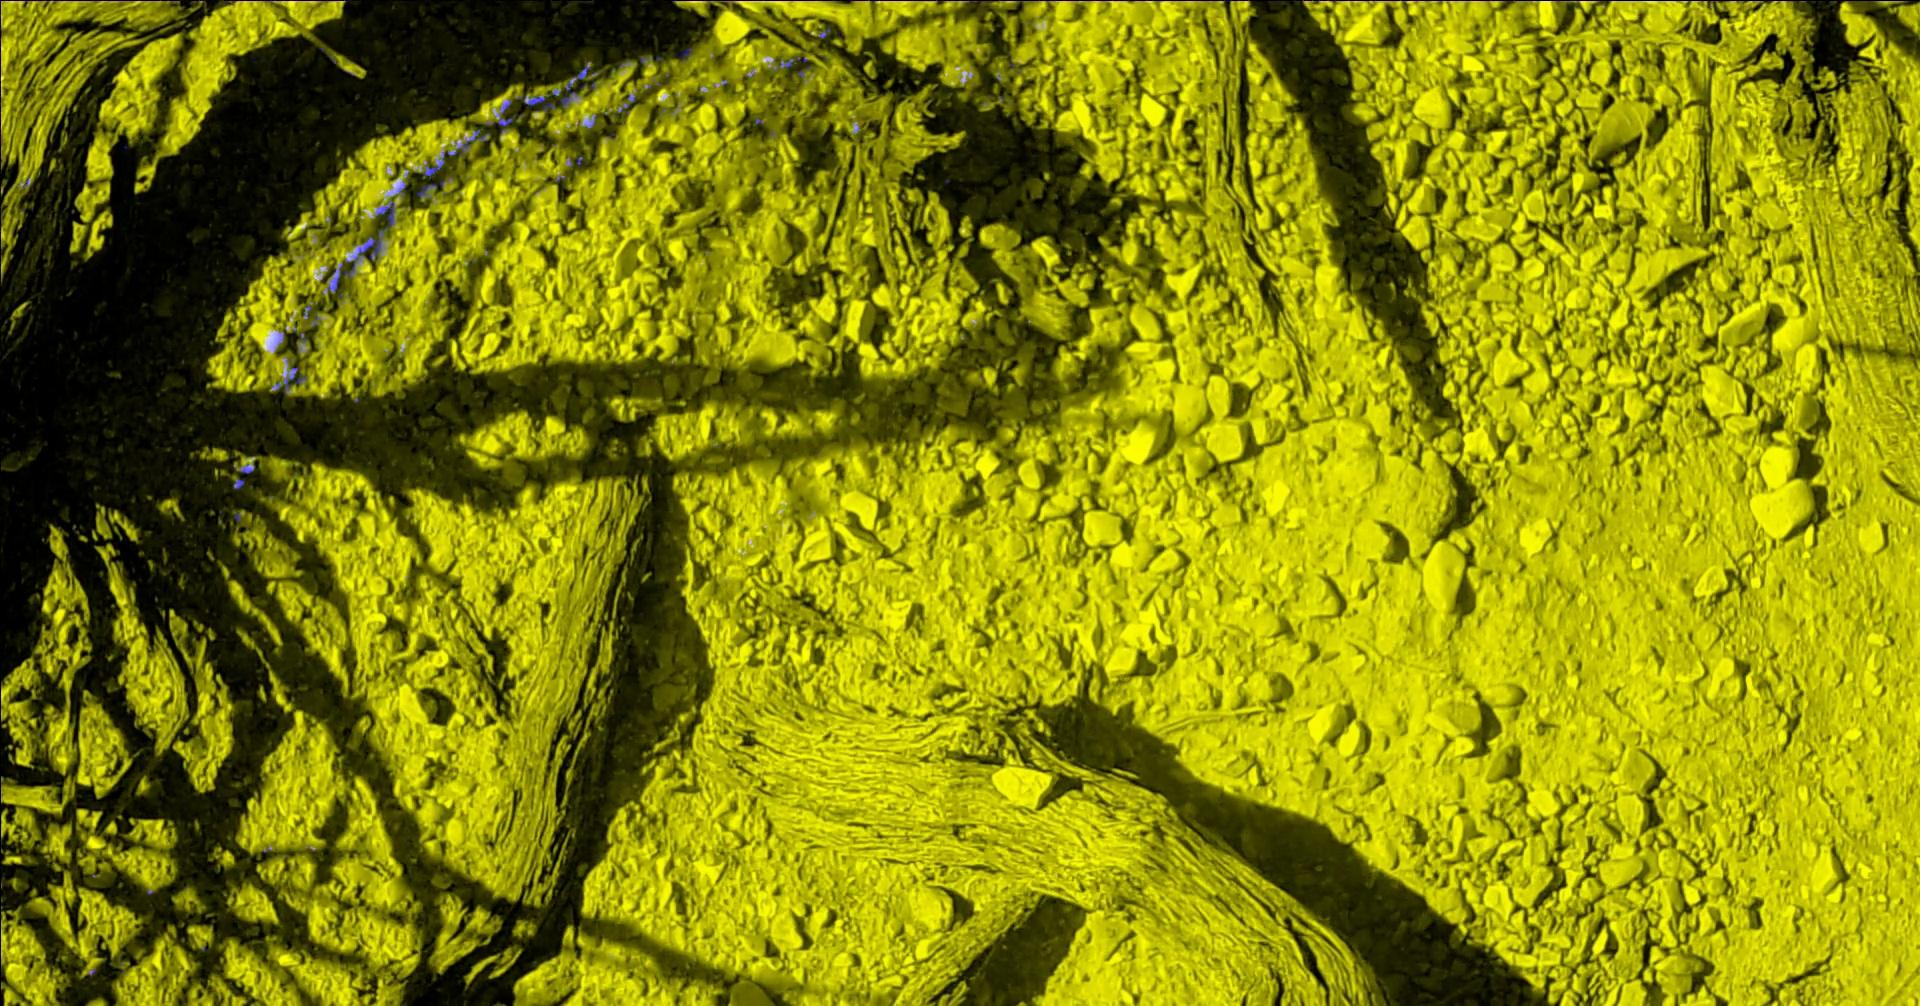ant: (328, 199, 395, 291), (422, 128, 489, 178), (560, 61, 590, 107), (485, 99, 522, 133), (273, 366, 306, 394), (516, 95, 555, 111), (415, 180, 444, 197), (616, 94, 635, 113), (778, 56, 806, 67), (676, 47, 691, 61)
